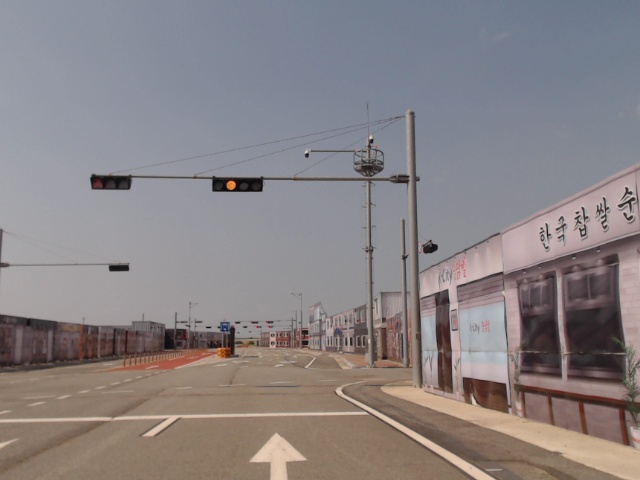orange_4: (211, 177, 264, 192)
